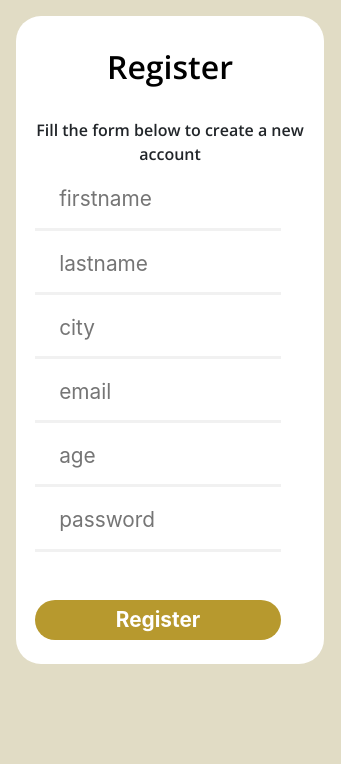
Test: Register Testing E2E Test Cases › Should check for missing fields
This screenshot has width=341, height=764.
(page scrolled)
Click the element showing "Register" at (158, 620), box [35, 600, 281, 640]
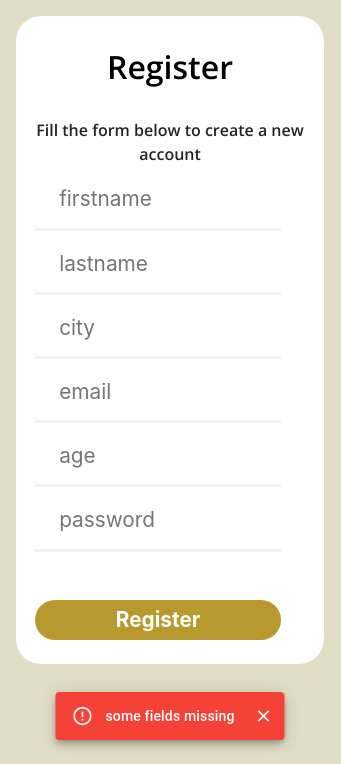
Expected: the message with id "error" reads "some fields missing", [56, 692, 285, 740]
